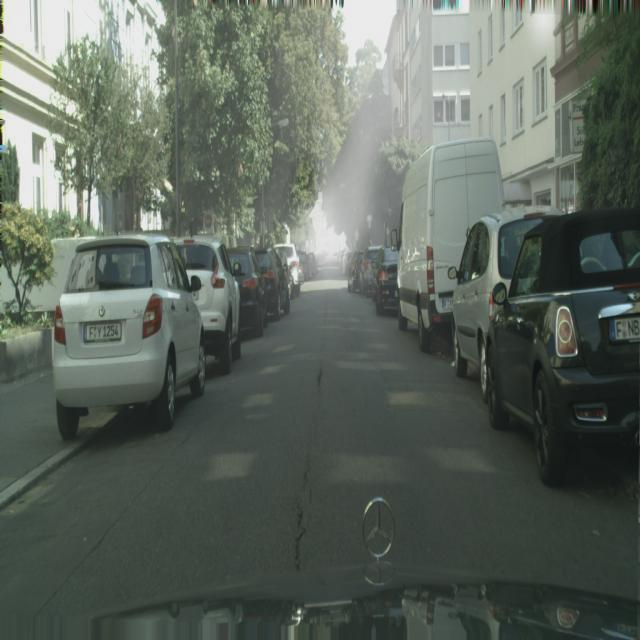motorcycle: (397, 136, 508, 352)
truck: (483, 206, 640, 485), (52, 231, 207, 440), (447, 205, 565, 396), (172, 235, 242, 375), (228, 249, 267, 338), (254, 248, 288, 321), (372, 248, 399, 316), (274, 242, 302, 298), (359, 243, 384, 300), (346, 248, 362, 294), (296, 251, 316, 281), (297, 251, 308, 282)
